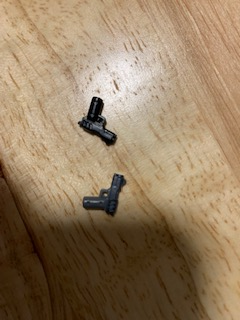pistol: (75, 96, 123, 146), (81, 171, 126, 219)
